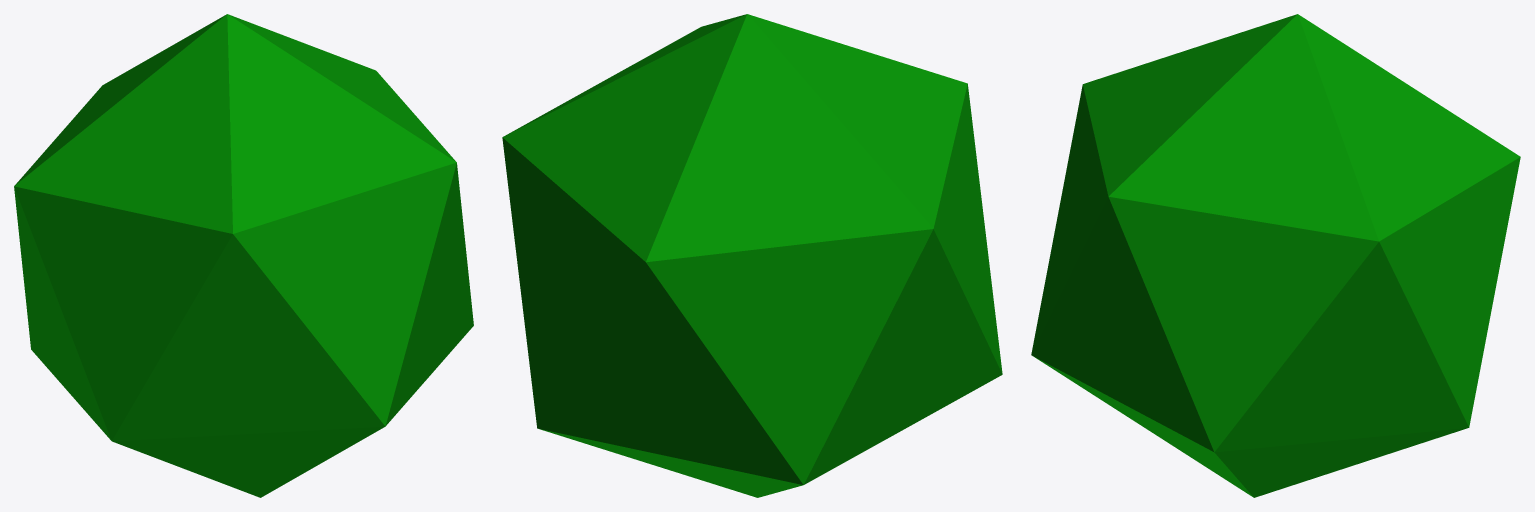
File: Kust_V2.fbx
3 renders of one model, left to right at view 1: azimuth 30°, elevation 25°; view 2: azimuth 150°, elevation 25°; view 3: azimuth 270°, elevation 25°, orthographic. The views are drawn at different scales.
Visible parts, largest first — view 1: Kust_V2; view 2: Kust_V2; view 3: Kust_V2.
Boxes of the visible parts, left/top/right/bottom form: Kust_V2: left=14, top=14, right=473, bottom=497; Kust_V2: left=502, top=14, right=1002, bottom=497; Kust_V2: left=1031, top=14, right=1520, bottom=497.
Bounding box in the file's own units: 1.8 × 2.03 × 1.89.
